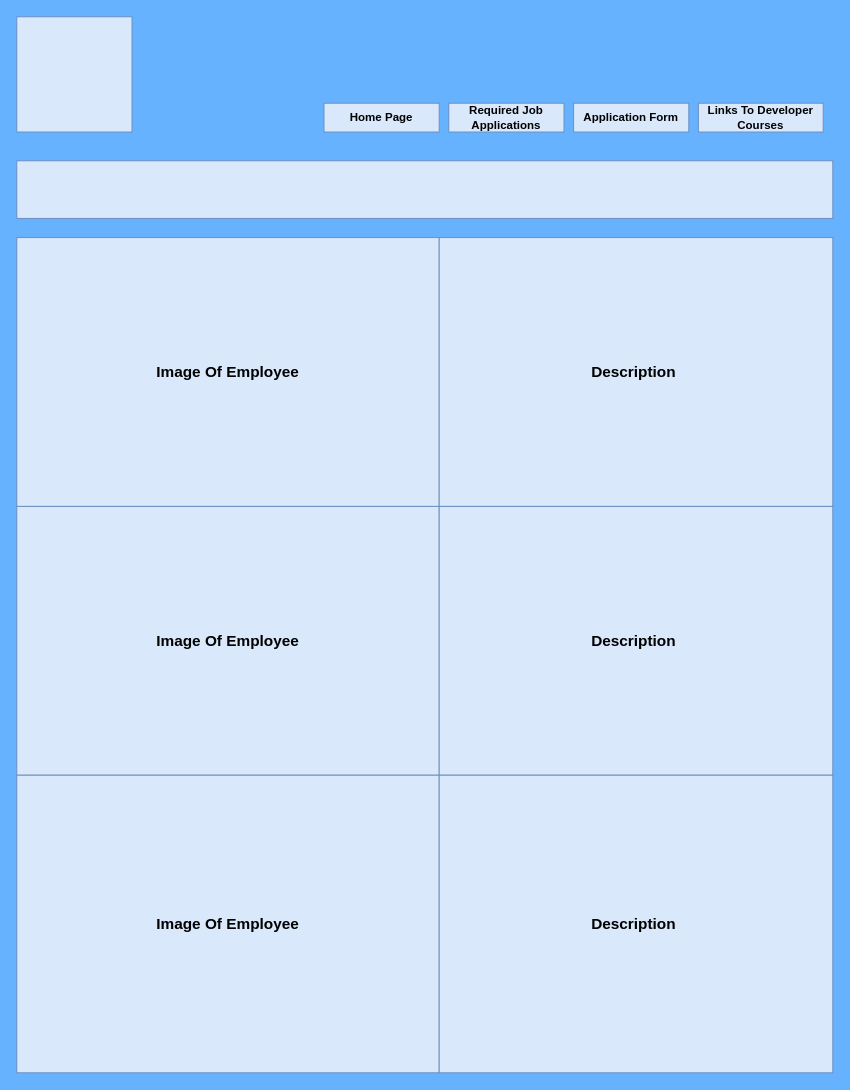
Image size: 850x1090. Some labels were removed from this diagram. The centre of each missing label's shape, as x and y in pixels:
Former Employees:: pixel 424 189
Logo: pixel 74 74
